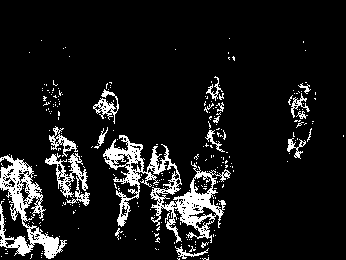person: (1, 154, 67, 257), (169, 169, 227, 260), (100, 133, 145, 240), (141, 142, 182, 250), (44, 125, 92, 209), (284, 78, 317, 160), (189, 126, 235, 184), (90, 81, 120, 151), (200, 75, 227, 130)
